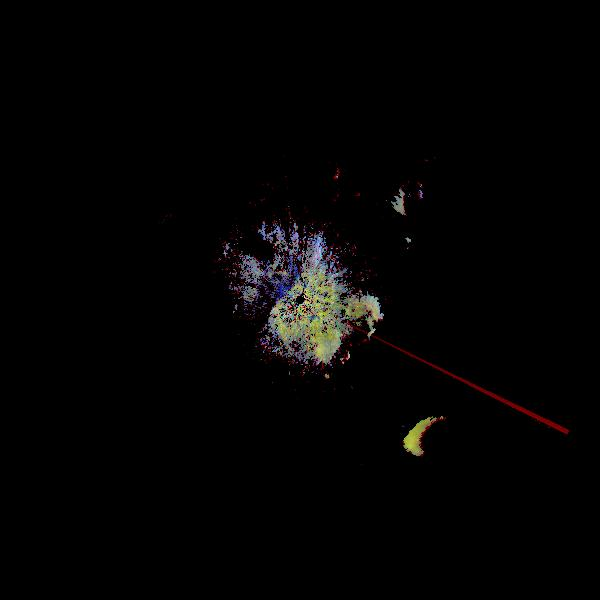roost: (385, 399, 508, 522), (299, 283, 407, 391), (255, 325, 348, 418)
